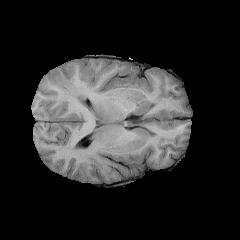glioma: (46, 76, 97, 161)
